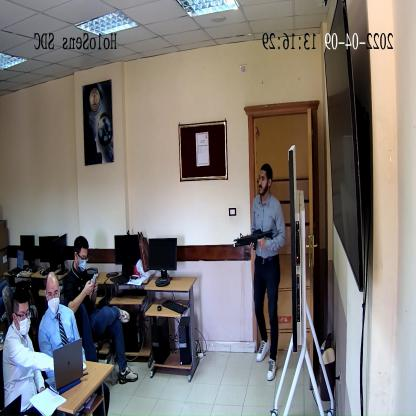handgun: (236, 226, 273, 254)
